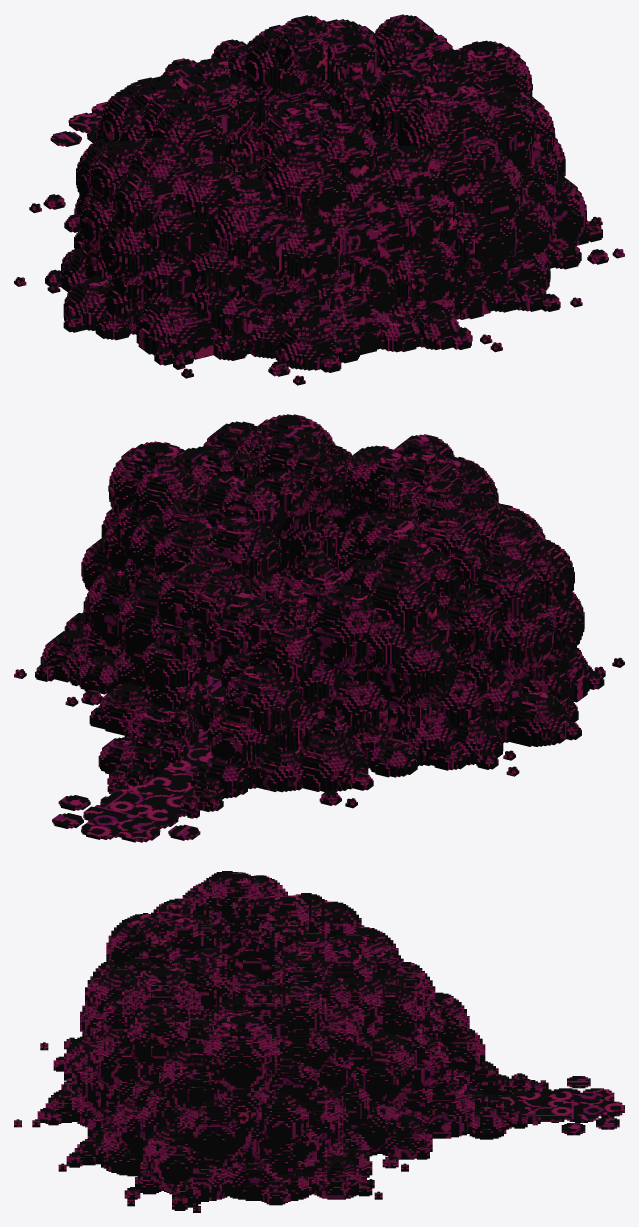
File: Caverna1Vox.fbx
The picture shows the model from 3 angles, top to bottom: view 1: azimuth 30°, elevation 25°; view 2: azimuth 150°, elevation 25°; view 3: azimuth 270°, elevation 25°; orthographic projection. The views are drawn at different scales.
Visible parts, largest first — view 1: Untitled.002; view 2: Untitled.002; view 3: Untitled.002.
Boxes of the visible parts, x1=… form: Untitled.002: x1=14, y1=14, x2=624, y2=385; Untitled.002: x1=14, y1=414, x2=624, y2=842; Untitled.002: x1=14, y1=871, x2=624, y2=1212.
Bounding box in the file's own units: 19.2 × 7.8 × 23.2.
